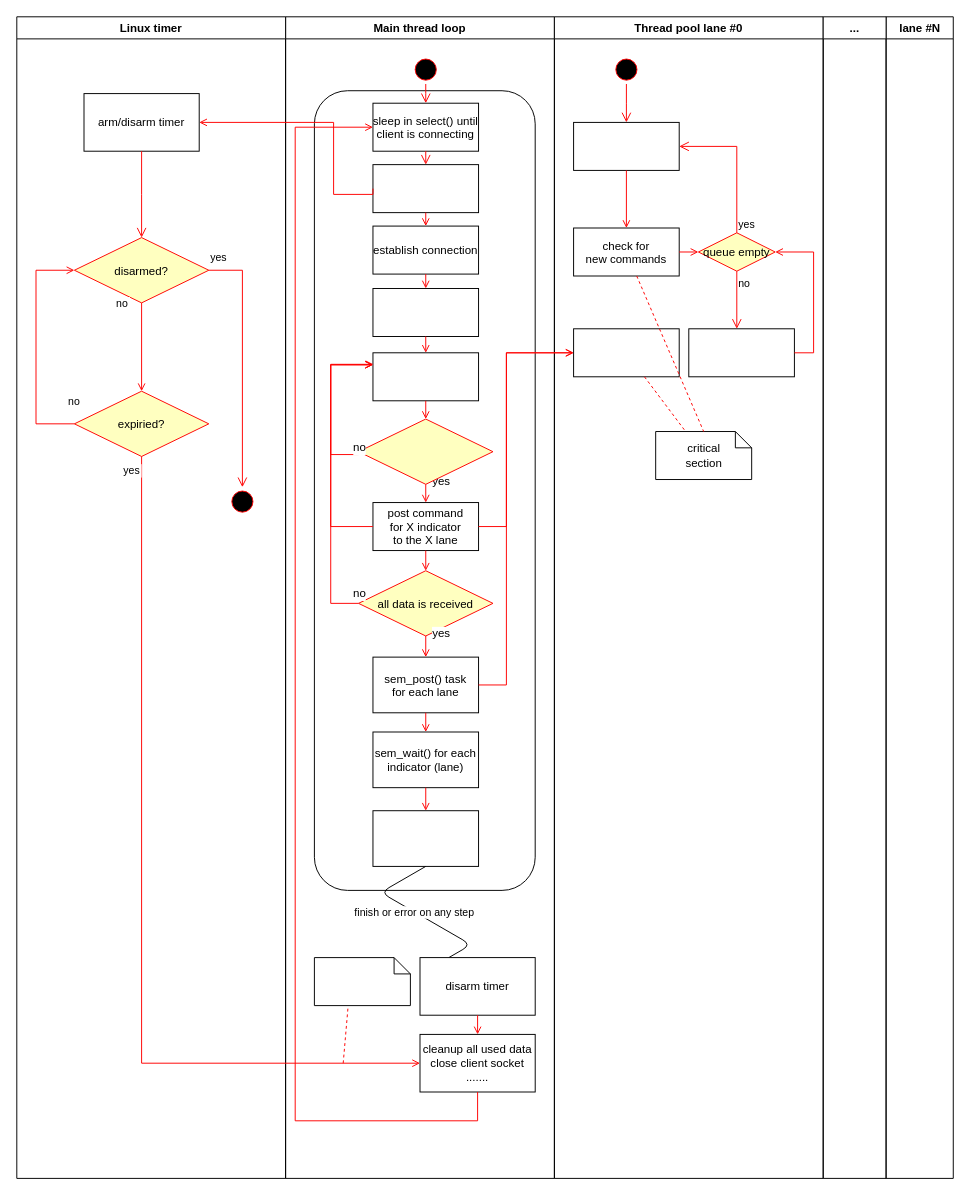
The diagram is 971 pixels wide and 1195 high, and some of its shapes have lost their labels. The shapes that lost their labels are listed below. From the top down, each one's centre as x and y in pixels, then its label:
At point (626, 145): "idle".
At point (425, 188): "arm timer for 35 seconds".
At point (425, 312): "receive and check header".
At point (626, 352): "add command to queue".
At point (741, 352): "process command".
At point (425, 376): "receive file chunk".
At point (425, 451): "received chunk > than frame-size".
At point (425, 838): "collect all indicators output and send it to client".
At point (361, 981): "signal handler".
